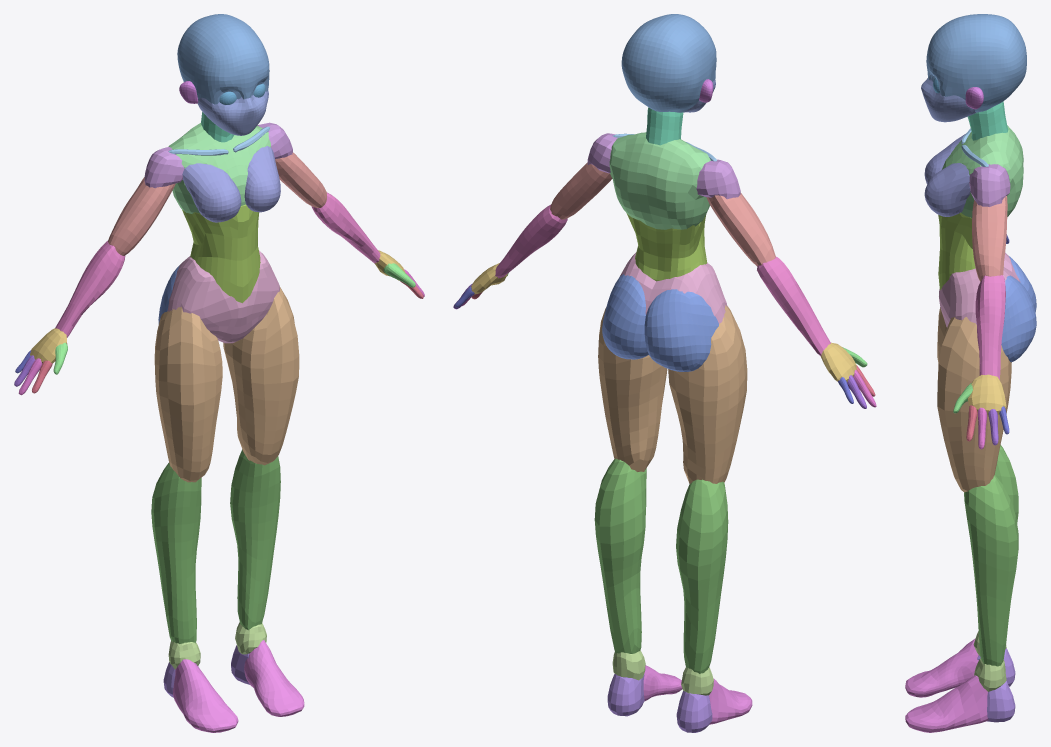
The picture shows the model from 3 angles, left to right: view 1: azimuth 30°, elevation 25°; view 2: azimuth 150°, elevation 25°; view 3: azimuth 270°, elevation 25°; orthographic projection. The views are drawn at different scales.
Visible parts, largest first — view 1: Object_4, Object_6; view 2: Object_4; view 3: Object_4, Object_6.
Boxes of the visible parts, x1,y1,x2,y2 form: Object_4: (14, 14, 424, 732); Object_6: (197, 90, 268, 135); Object_4: (453, 14, 876, 732); Object_4: (905, 14, 1036, 732); Object_6: (921, 78, 976, 122).
Bounding box in the file's own units: 6.95 × 11.15 × 1.92.
2 materials, 2 textured.
